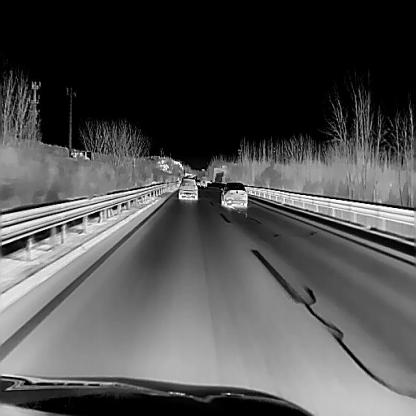car: (219, 181, 247, 208), (178, 175, 198, 200), (199, 175, 207, 187)
